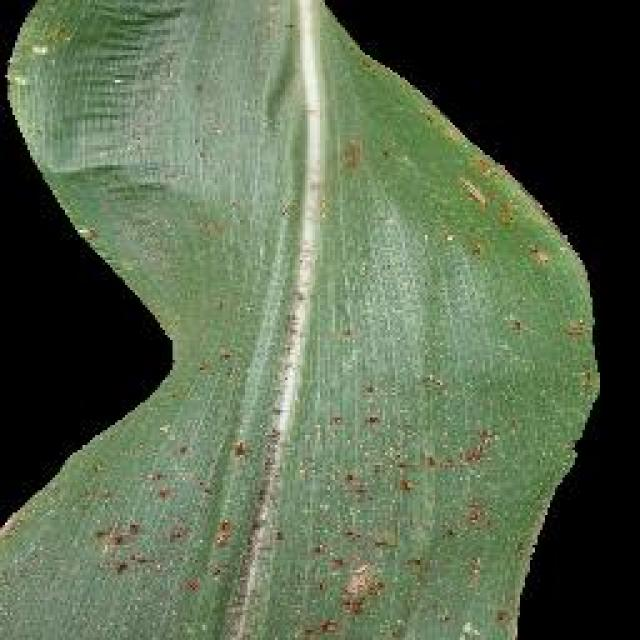Corn Common Rust: (97, 75, 495, 615)
